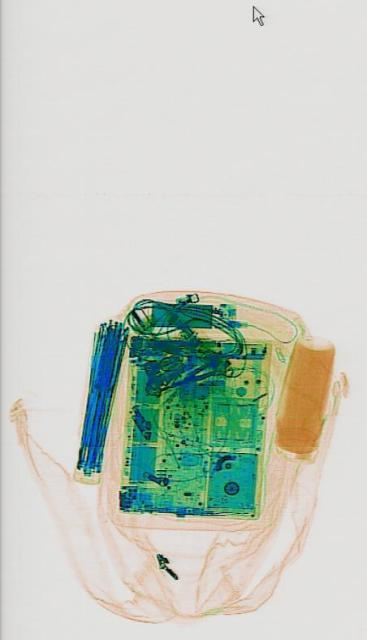Pliers: (168, 355, 217, 395)
